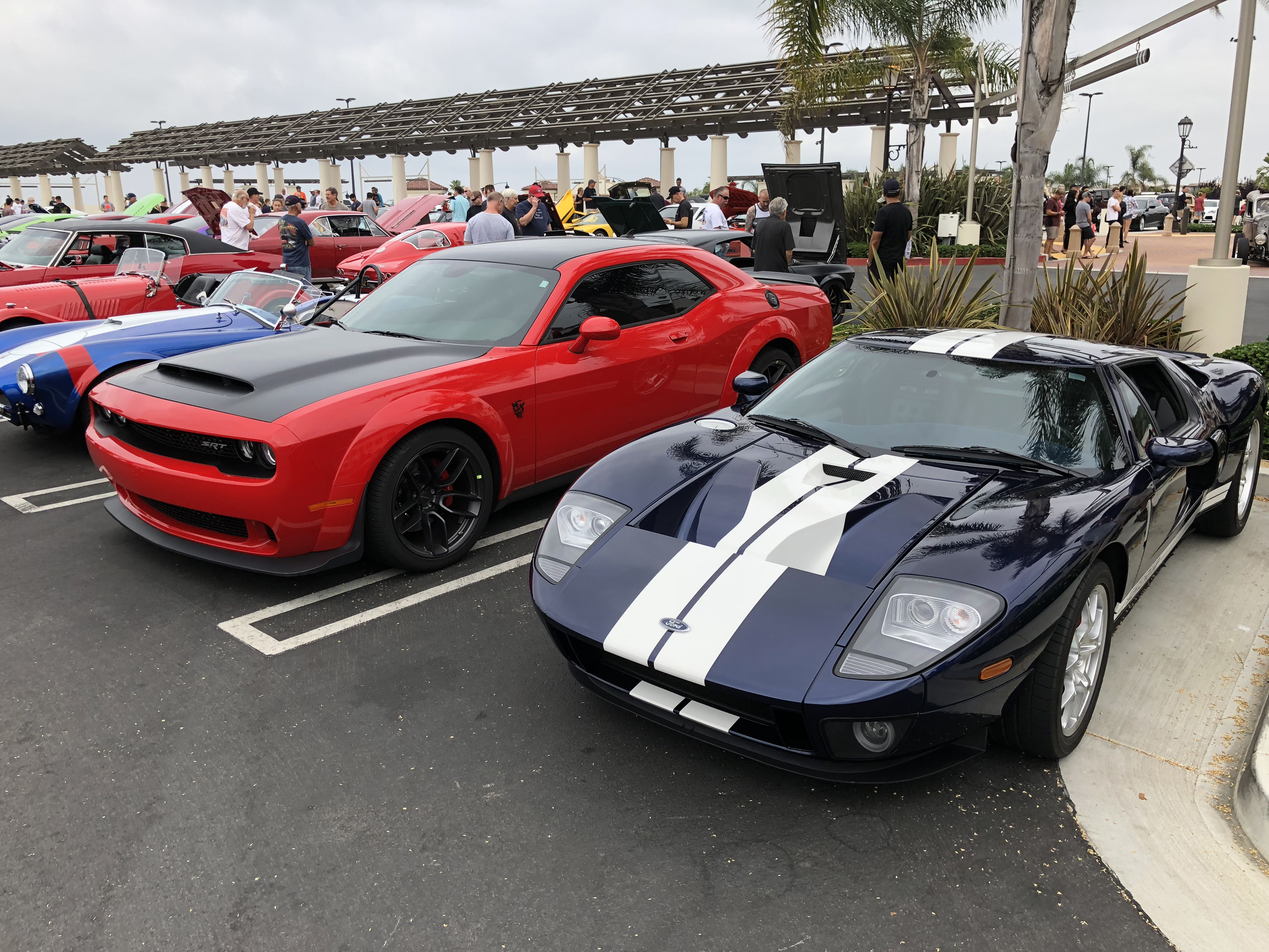other: (516, 316, 1266, 783), (74, 235, 836, 575), (1, 291, 333, 450)
